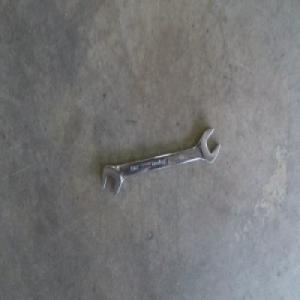Wrench: (101, 129, 219, 197)
